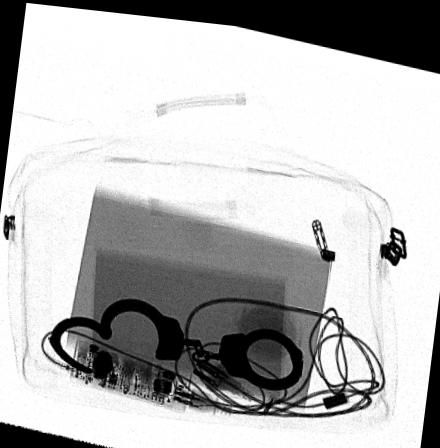HandCuffs: (48, 295, 303, 384)
